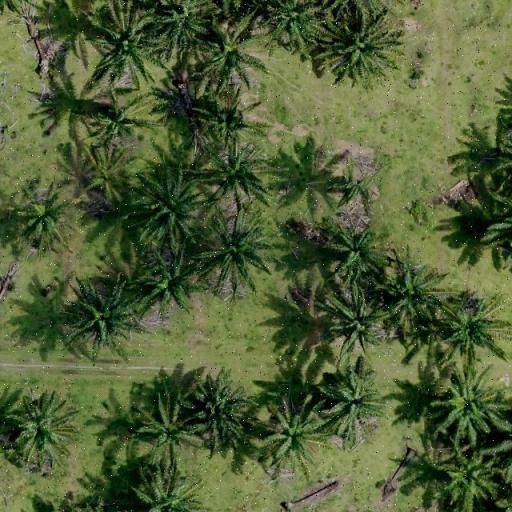Ganoderma: (14, 410, 64, 452), (266, 418, 316, 459), (18, 201, 62, 243), (84, 156, 125, 196)
